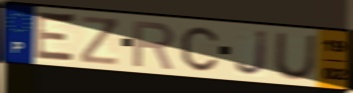C: (179, 25, 220, 73)
E: (33, 9, 78, 66)
J: (233, 29, 269, 79)
R: (131, 19, 177, 71)
U: (273, 32, 319, 82)
Z: (79, 14, 121, 67)
